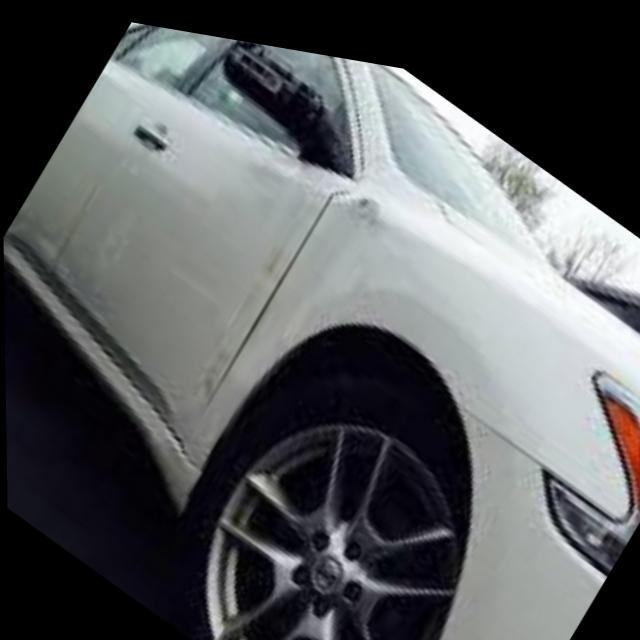dent: (186, 165, 395, 386)
